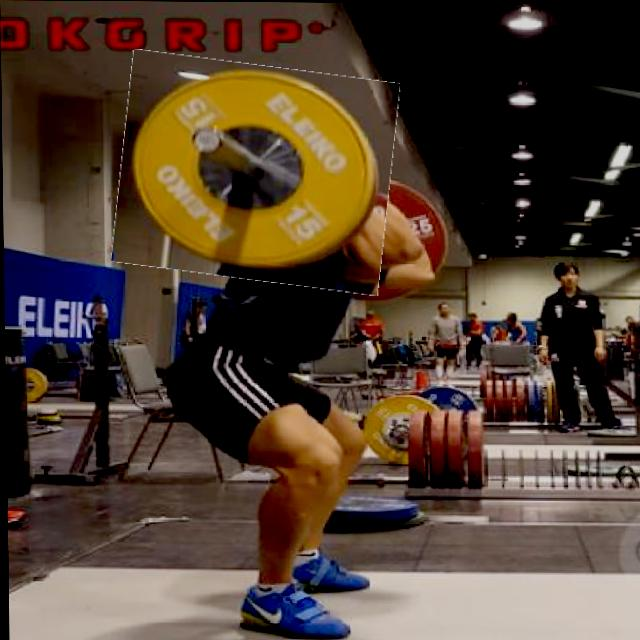barbell: (115, 58, 397, 289)
